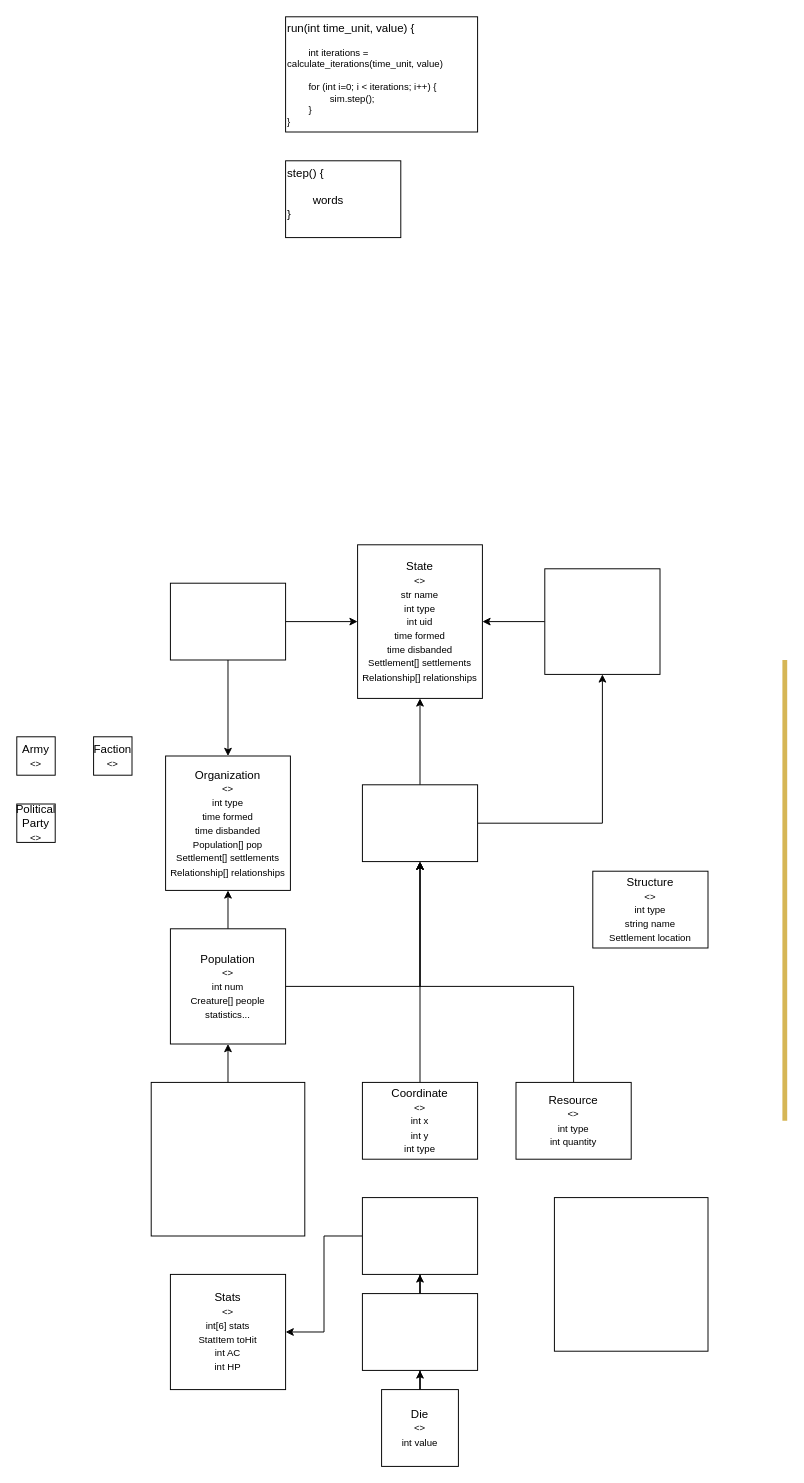
The diagram is 804 pixels wide and 1483 high, and some of its shapes have lost their labels. The centre of each missing label's shape, as x and y in pixels:
"Creature <> int occupation int race int age int income int wealth <??> stats" belongs at pixel 227 1158.
"Dice <> int mNumDice Die die" belongs at pixel 419 1331.
"Profile <> int occupation int race int age int income int wealth <??> stats" belongs at pixel 630 1274.
"Relationships <> <T> thing int value" belongs at pixel 227 621.
"Settlement <> int type int uid string name Tile tile" belongs at pixel 602 621.
"StatItem <> Dice dice int modifier" belongs at pixel 419 1235.
"Tile <> Coordinate loc Resource[] res Population pop" belongs at pixel 419 823.
